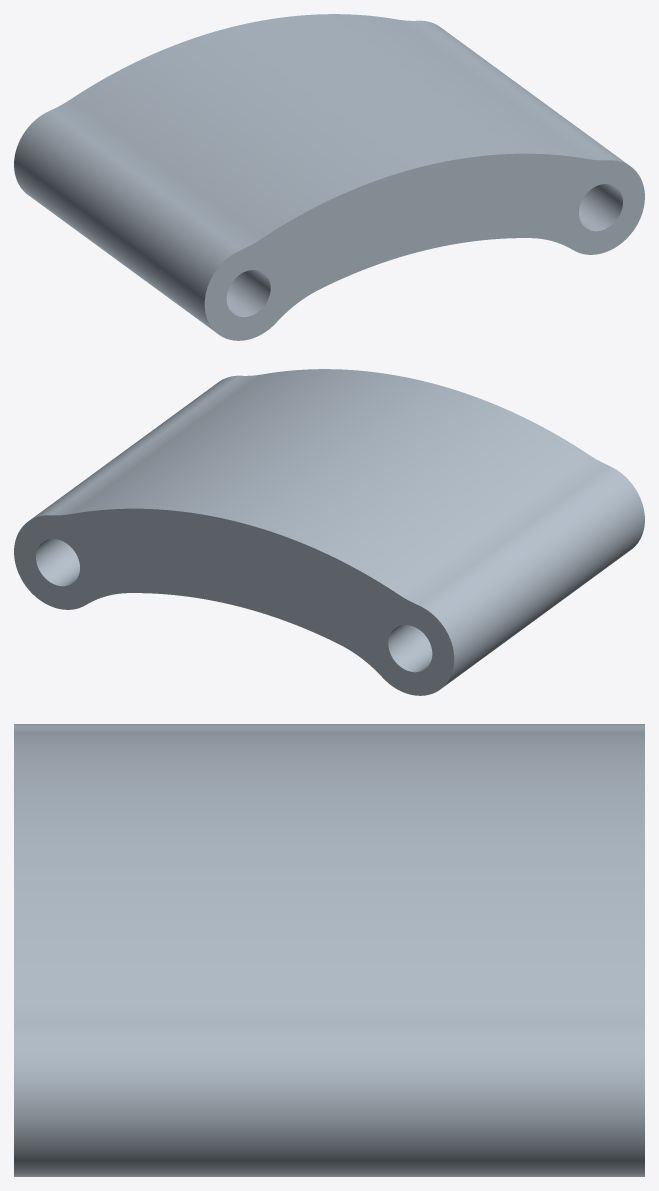
File: pressure_gate.obj
3 renders of one model, top to bottom at view 1: azimuth 30°, elevation 25°; view 2: azimuth 150°, elevation 25°; view 3: azimuth 270°, elevation 25°, orthographic. The views are drawn at different scales.
Parts seen in each view (by area): view 1: 1; view 2: 1; view 3: 1.
Boxes of the visible parts, left/top/right/bottom form: 1: left=14, top=14, right=644, bottom=340; 1: left=14, top=369, right=644, bottom=695; 1: left=14, top=724, right=644, bottom=1176.
Bounding box in the file's own units: 20 × 5.67 × 15.
